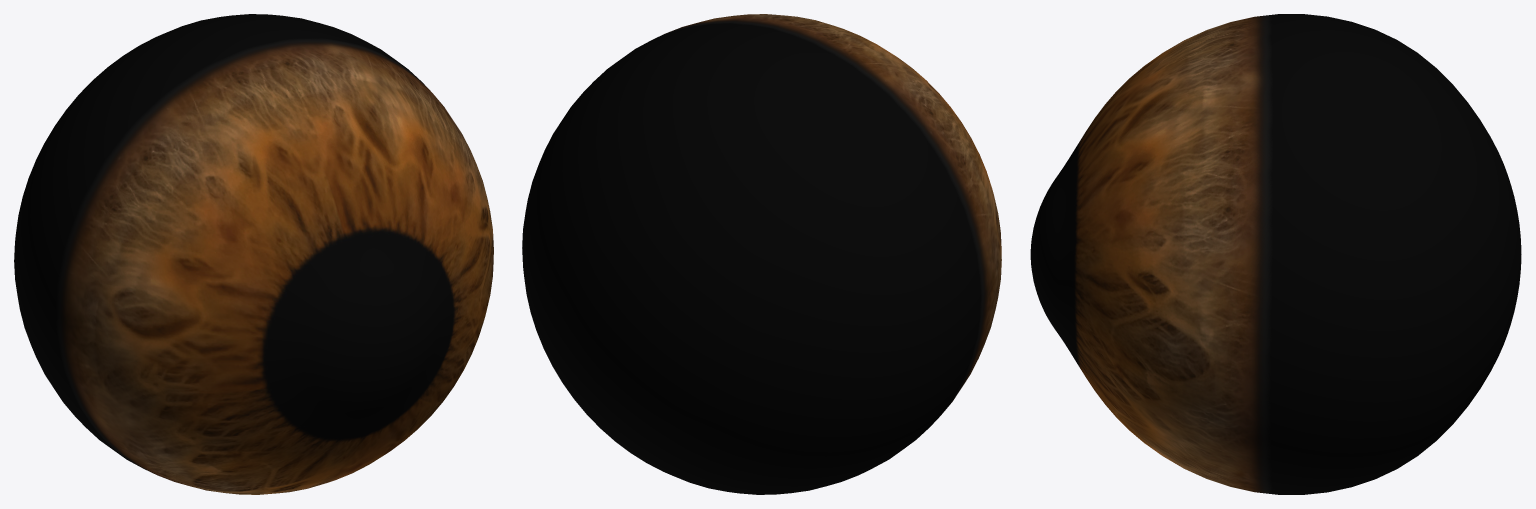
File: realistic_eye.glb
3 views of the same model, side by side, from view 1: azimuth 30°, elevation 25°; view 2: azimuth 150°, elevation 25°; view 3: azimuth 270°, elevation 25° (orthographic).
Visible parts, largest first — view 1: Eye - Realistic.001; view 2: Eye - Realistic.001; view 3: Eye - Realistic.001.
Part boxes in pixels (x1,y1,x2,y2): Eye - Realistic.001: [14, 14, 493, 494]; Eye - Realistic.001: [522, 14, 1001, 494]; Eye - Realistic.001: [1030, 14, 1521, 494].
Size of the model in its own units: 0.0333 by 0.0333 by 0.0339.
1 material, 1 textured.
